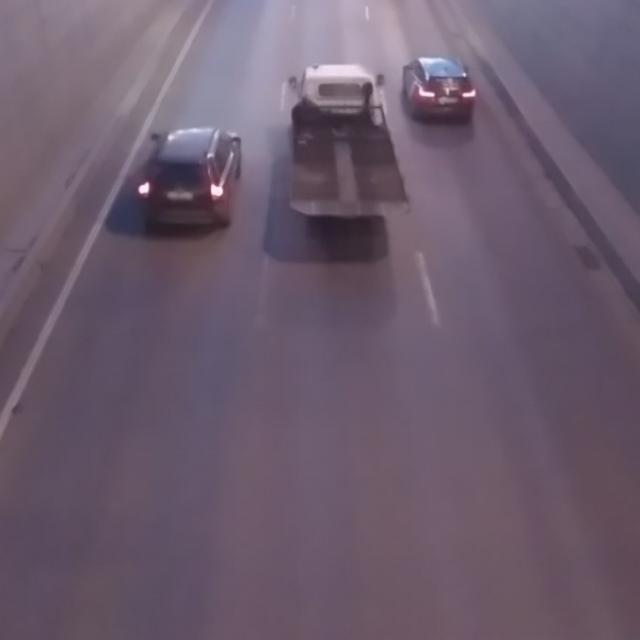car: (403, 55, 478, 124)
truck: (288, 64, 414, 218)
